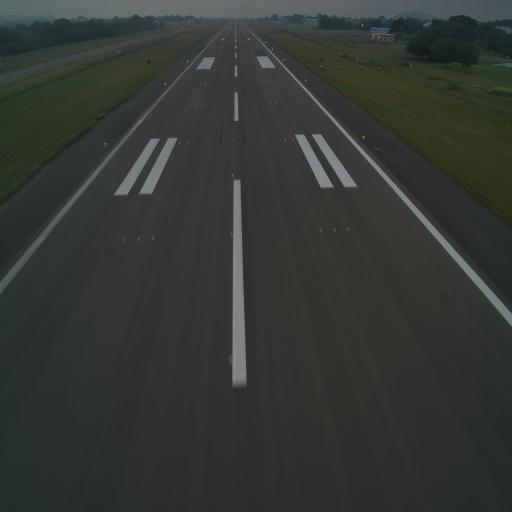off: (232, 138, 236, 145)
on: (229, 227, 238, 242), (331, 224, 339, 236), (345, 222, 352, 235), (228, 353, 234, 368), (136, 233, 142, 246), (360, 132, 367, 142), (318, 225, 324, 236), (121, 234, 126, 245), (151, 234, 155, 243), (104, 140, 108, 149), (231, 171, 235, 178), (300, 136, 304, 143), (185, 140, 189, 146), (169, 141, 172, 146), (292, 136, 294, 143), (178, 141, 181, 145), (284, 138, 287, 142)
